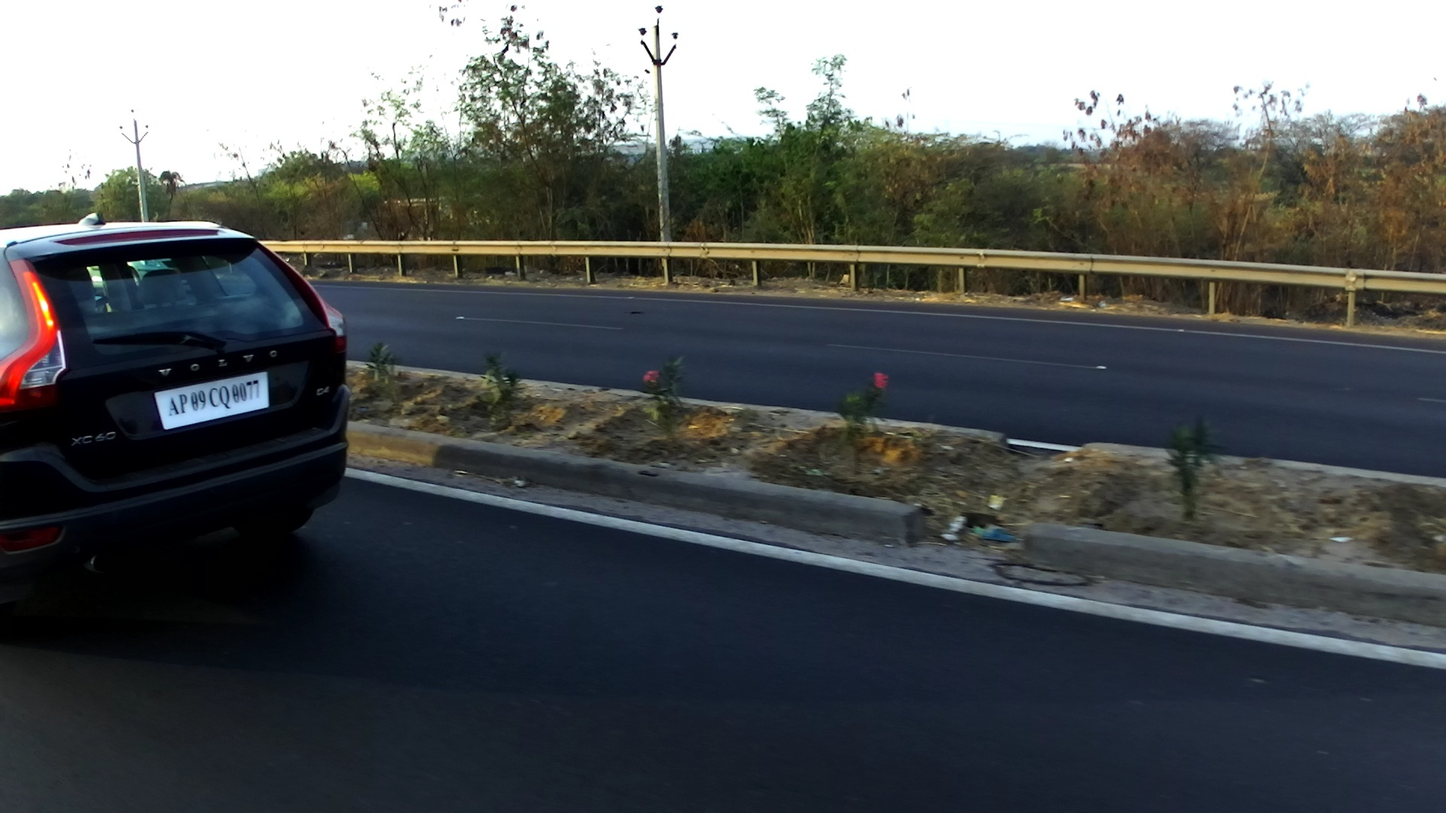car: (3, 212, 349, 604)
